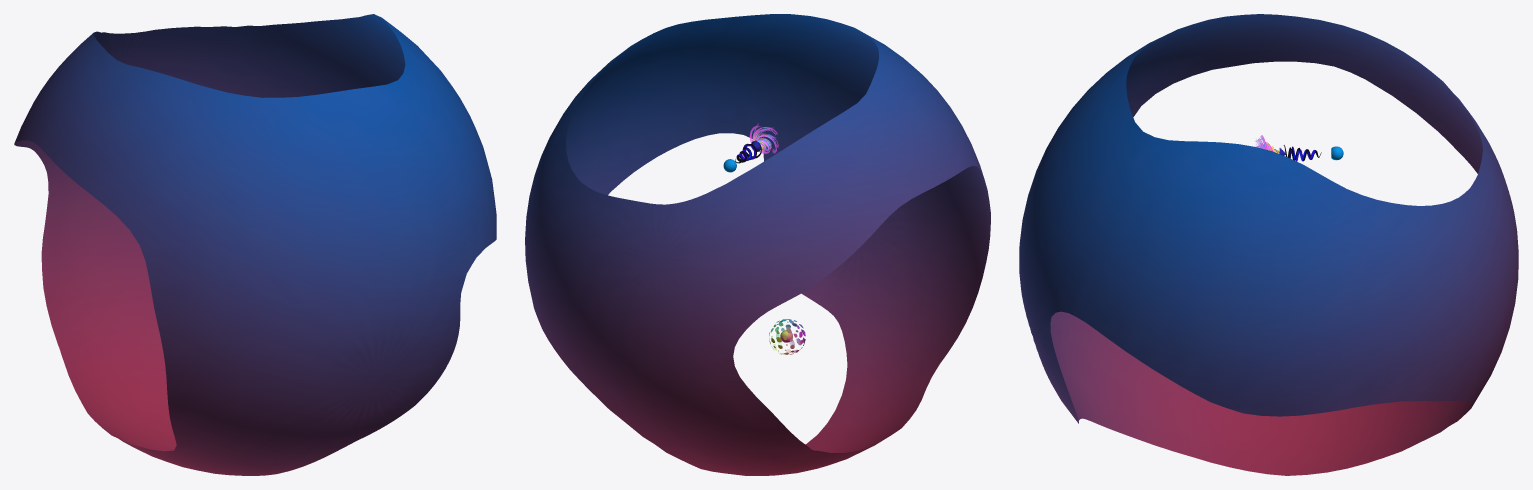
The model's file is 06_Olympic.glb.
3 renders of one model, left to right at view 1: azimuth 30°, elevation 25°; view 2: azimuth 150°, elevation 25°; view 3: azimuth 270°, elevation 25°, orthographic. The views are drawn at different scales.
Visible parts, largest first — view 1: 06_Background_Animateable_Sphere; view 2: 06_Background_Animateable_Sphere, 06_Flower_Petals, 06_Big_Fire_Petals; view 3: 06_Background_Animateable_Sphere.
Part boxes in pixels (x1,y1,x2,y2): 06_Background_Animateable_Sphere: (14, 14, 496, 475); 06_Background_Animateable_Sphere: (525, 14, 990, 475); 06_Flower_Petals: (769, 319, 805, 354); 06_Big_Fire_Petals: (749, 123, 778, 153); 06_Background_Animateable_Sphere: (1019, 14, 1518, 475).
Bounding box in the file's own units: 315 × 311 × 336.
Materials: 7 (3 with a texture image).
